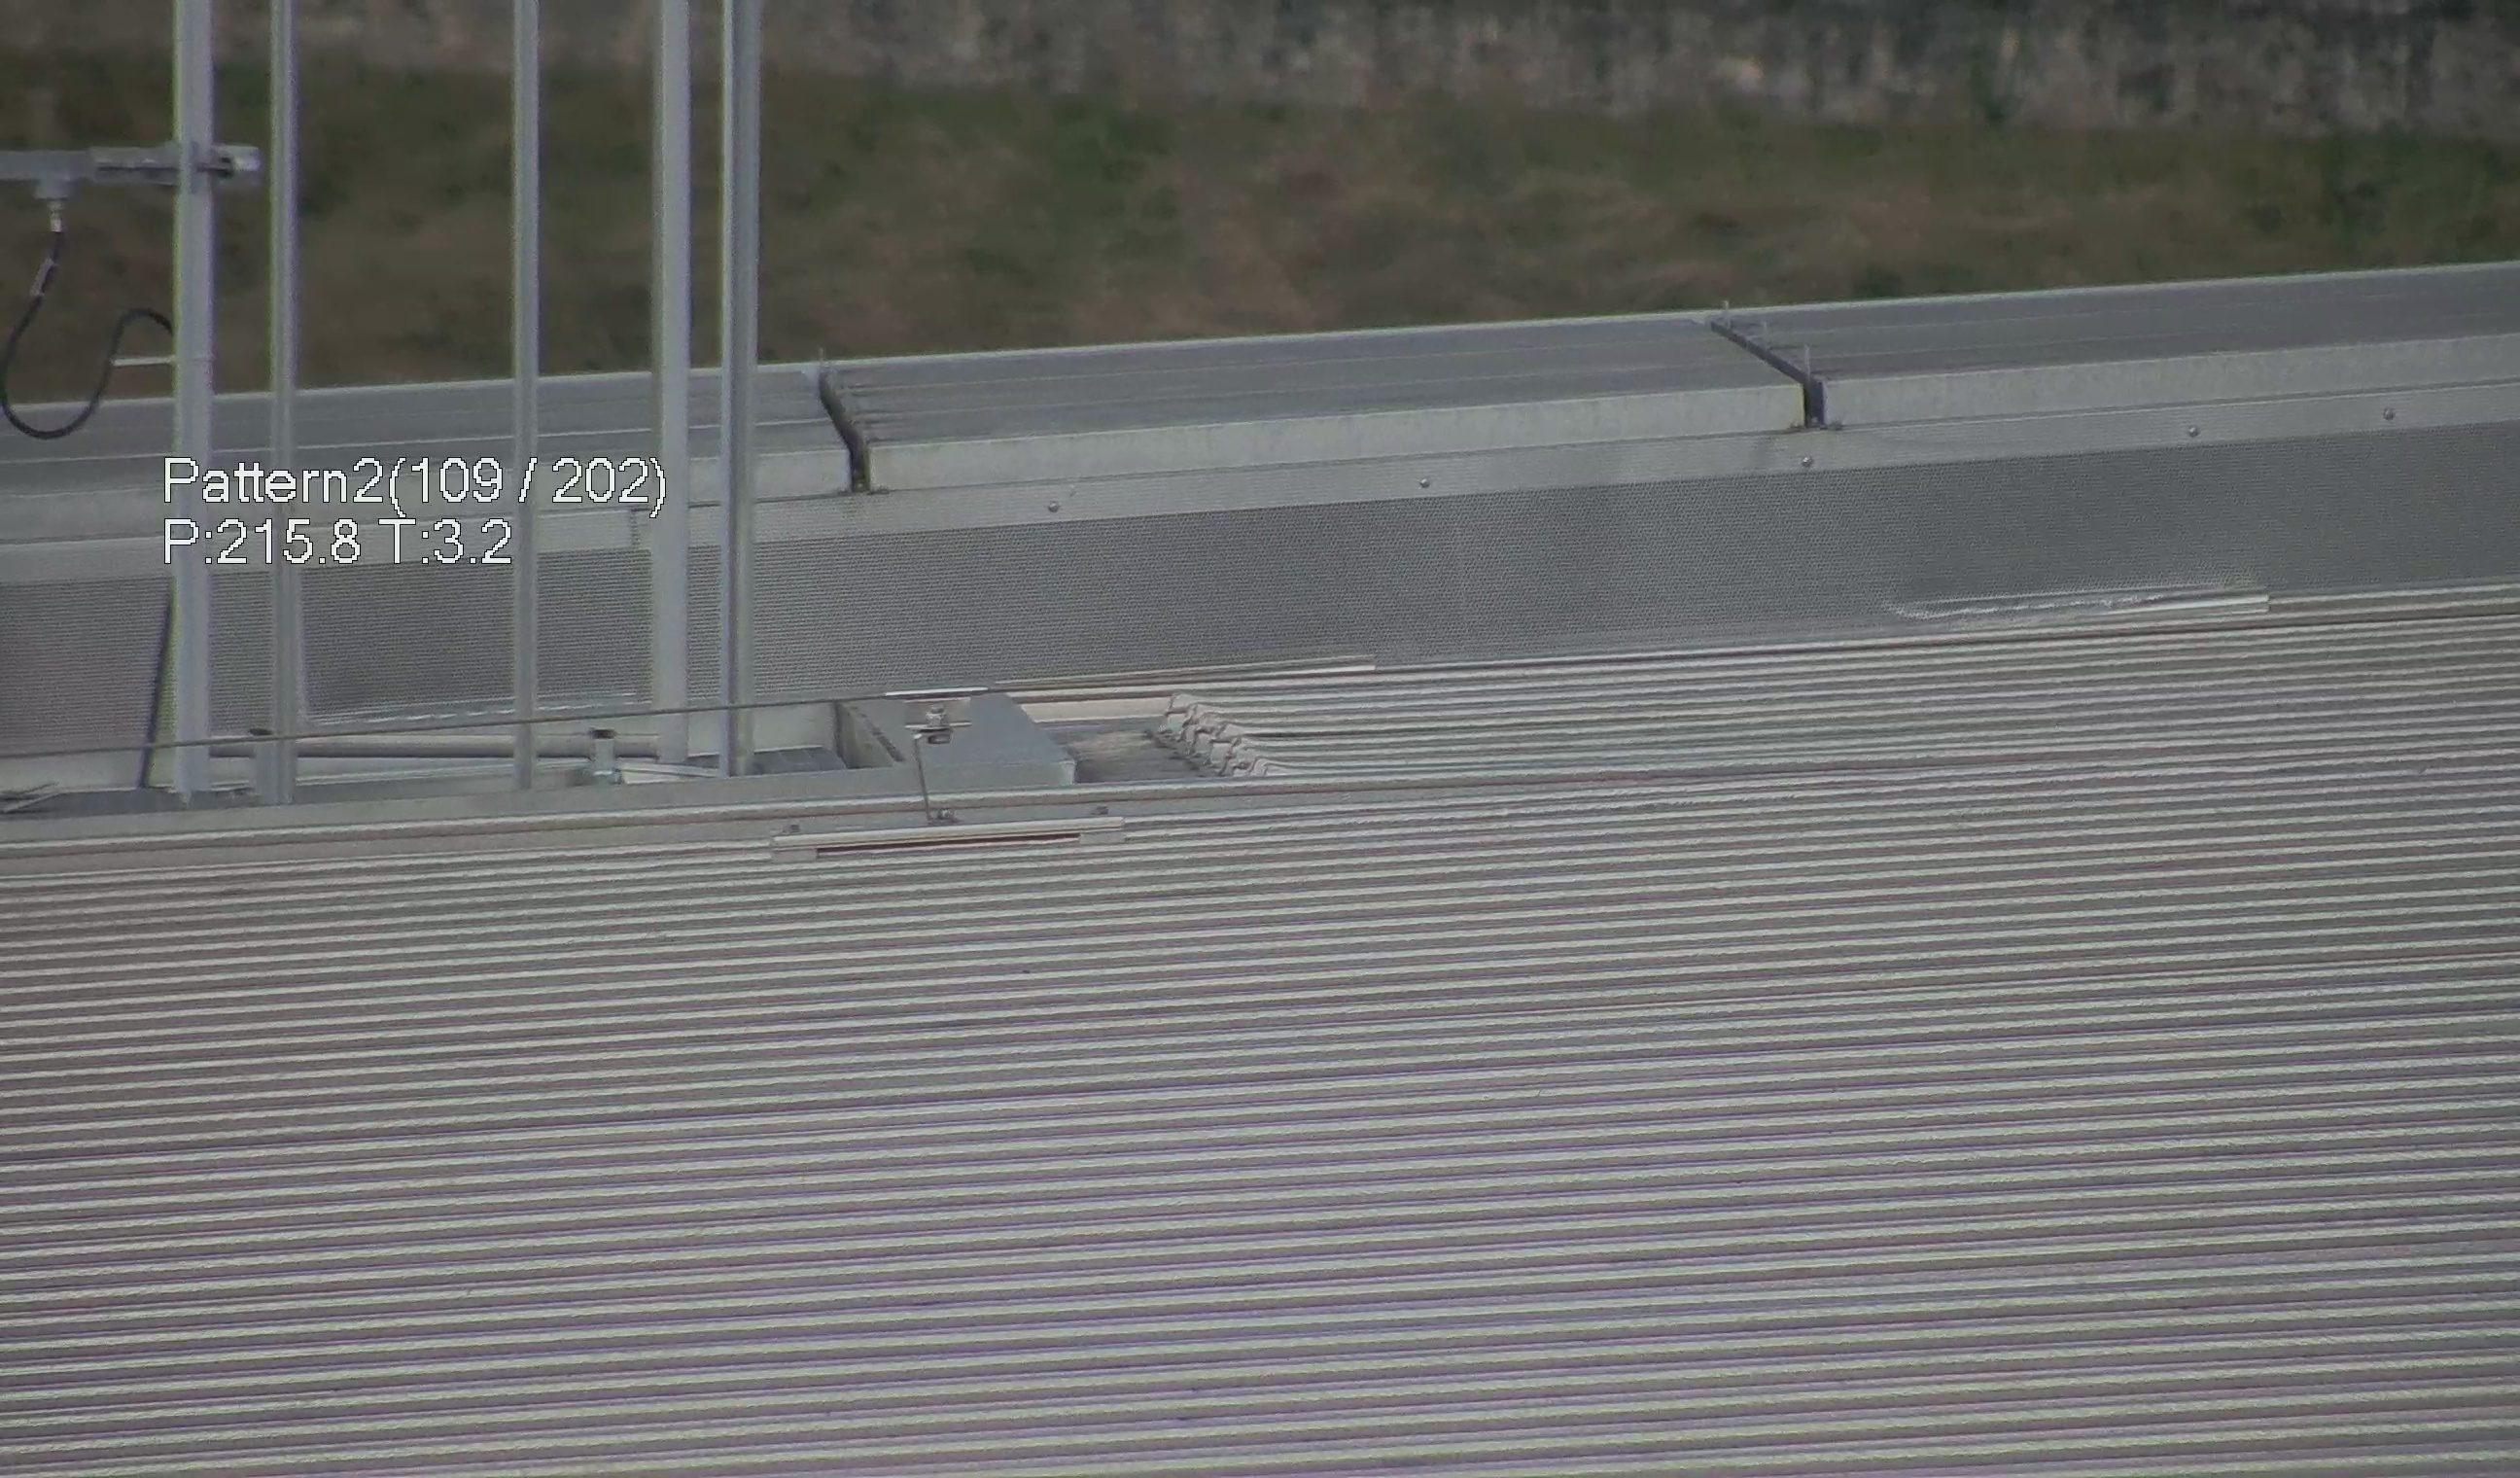Other: (784, 352, 886, 501)
